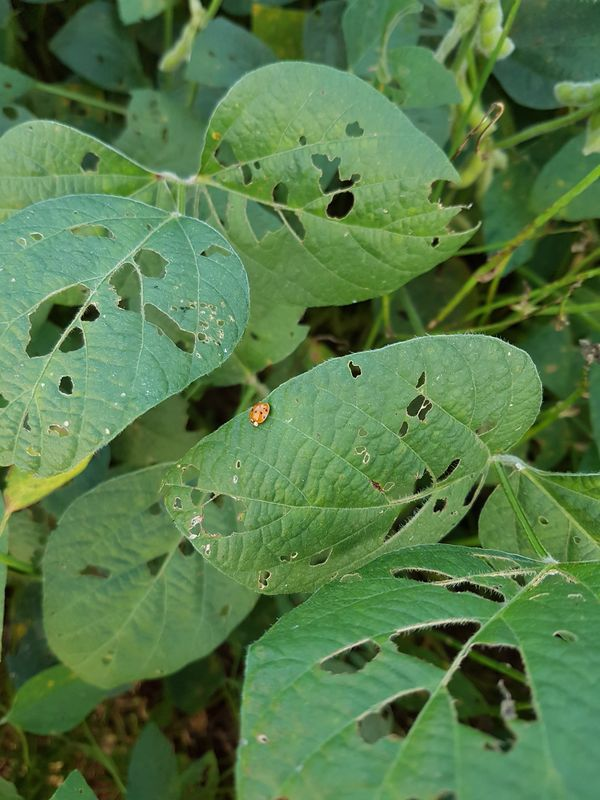Coccinellidae: (239, 392, 284, 436)
